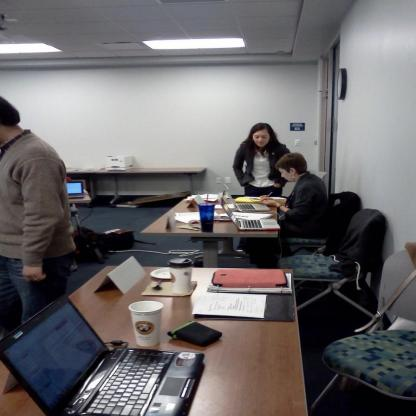board: (0, 294, 203, 416), (222, 197, 280, 230), (225, 185, 270, 211)
